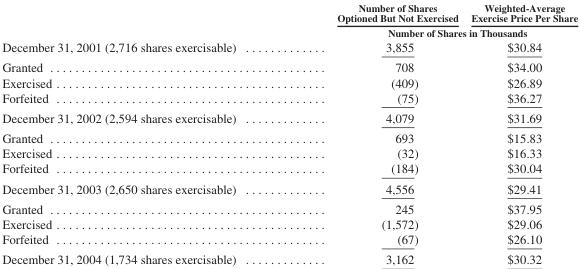table: (1, 1, 577, 266)
table column: (1, 1, 285, 266), (285, 1, 464, 266), (464, 1, 577, 266)
table column header: (1, 1, 577, 39)
table row: (1, 1, 577, 24), (1, 107, 577, 127), (1, 178, 577, 198), (1, 39, 577, 57), (1, 89, 577, 107), (1, 127, 577, 145), (1, 160, 577, 178), (1, 198, 577, 216), (1, 248, 577, 266), (1, 57, 577, 74), (1, 231, 577, 248), (1, 24, 577, 39), (1, 74, 577, 89), (1, 145, 577, 160), (1, 216, 577, 231)
table spanning cell: (285, 24, 577, 39)
